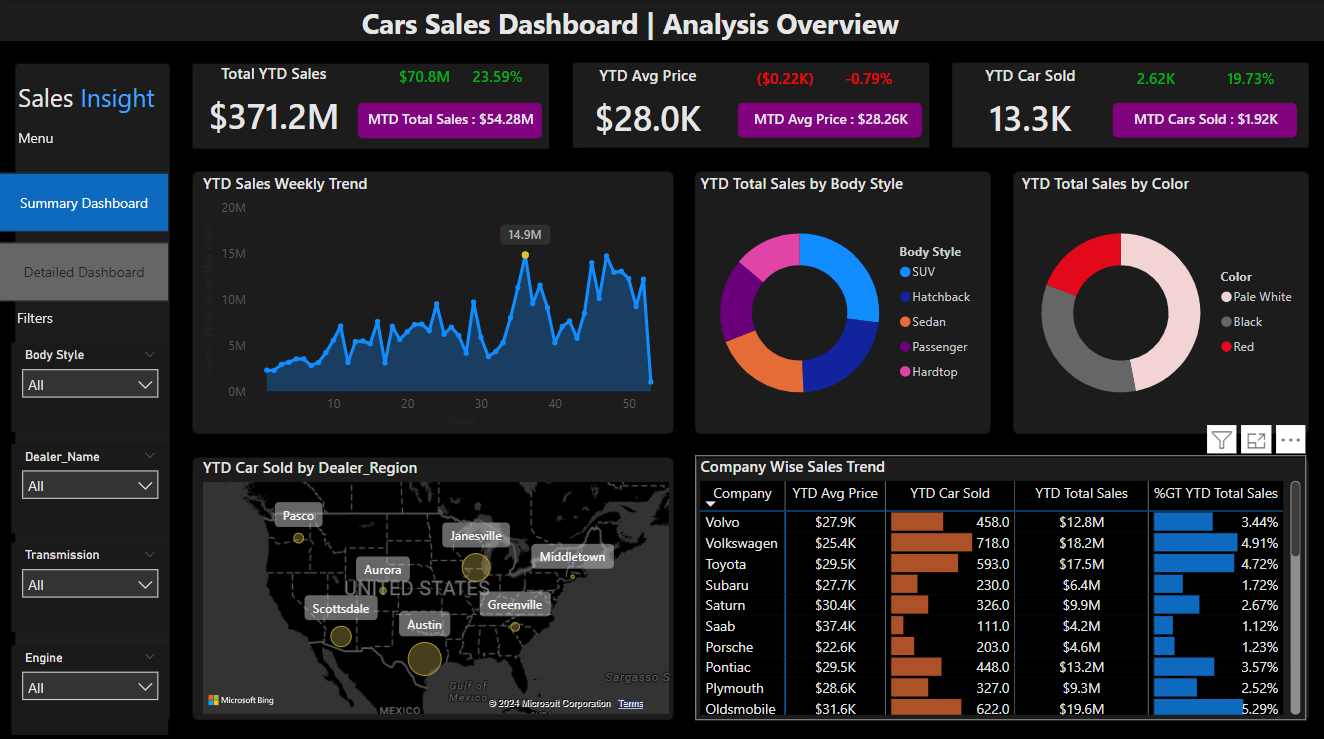

The dashboard page shown, as its layout file describes it:
{"tool":"powerbi","page":{"name":"Summary Dashboard","canvas":[1280,720],"ordinal":0},"visuals":[{"type":"card","title":"Total YTD Sales","fields":{"Values":["car_data.YTD Total Sales"]},"box":[186.1,62,158.7,83.7],"z":0},{"type":"card","fields":{"Values":["car_data.Sales Difference"]},"box":[357.8,62,105.3,31.7],"z":1000},{"type":"card","fields":{"Values":["car_data.YOY Sales Growth"]},"box":[437.2,62,89.5,31.7],"z":2000},{"type":"card","fields":{"Values":["car_data.MTD KPI"]},"box":[346.3,99.6,177.5,34.6],"z":3000},{"type":"card","title":"YTD Avg Price","fields":{"Values":["car_data.YTD Avg Price"]},"box":[546.5,62.8,159.2,84.2],"z":4000},{"type":"card","fields":{"Values":["car_data.Avg Price Difference"]},"box":[705.7,62.8,105.6,32.1],"z":5000},{"type":"card","fields":{"Values":["car_data.YOY Avg Price Growth"]},"box":[786.8,62.8,105.6,32.1],"z":6000},{"type":"card","fields":{"Values":["car_data.MTD Avg Price KPI"]},"box":[713.3,99.5,177.6,33.7],"z":7000},{"type":"card","title":"YTD Car Sold","fields":{"Values":["car_data.YTD Car Sold"]},"box":[915.4,62.8,159.2,84.2],"z":8000},{"type":"card","fields":{"Values":["car_data.Car Sold Difference"]},"box":[1063.9,62.8,105.6,32.1],"z":9000},{"type":"card","fields":{"Values":["car_data.YoY Car Sold Growth"]},"box":[1155.7,62.8,105.6,32.1],"z":10000},{"type":"card","fields":{"Values":["car_data.MTD Cars Sold KPI"]},"box":[1074.6,99.5,177.6,33.7],"z":11000},{"type":"areaChart","title":"YTD Sales Weekly Trend","fields":{"Category":["Date Table.Week"],"Y":["Sum(car_data.Price ($))","car_data.Max Point"]},"box":[191.8,167.6,459.5,250.9],"z":12000},{"type":"donutChart","fields":{"Category":["car_data.Body Style"],"Y":["car_data.YTD Total Sales"]},"box":[671.8,167.6,279.8,250.9],"z":13000},{"type":"donutChart","fields":{"Y":["car_data.YTD Total Sales"],"Category":["car_data.Color"]},"box":[981.7,167.6,279.8,250.9],"z":14000},{"type":"pivotTable","title":"Company Wise Sales Trend","fields":{"Rows":["car_data.Company"],"Values":["car_data.YTD Avg Price","car_data.YTD Car Sold","car_data.YTD Total Sales1","car_data.YTD Total Sales"]},"box":[672.3,440,588.6,255.4],"z":15000},{"type":"textbox","box":[345,0,560,52],"z":16000},{"type":"map","fields":{"Category":["car_data.Dealer_Region"],"Size":["car_data.YTD Car Sold"]},"box":[191.8,441.4,459.5,254.5],"z":17000},{"type":"slicer","fields":{"Values":["car_data.Body Style"]},"box":[11.5,331.8,151.5,86.6],"z":18000},{"type":"slicer","fields":{"Values":["car_data.Dealer_Name"]},"box":[11.5,429.9,151.5,86.6],"z":19000},{"type":"slicer","fields":{"Values":["car_data.Transmission"]},"box":[11.5,525.2,151.5,86.6],"z":20000},{"type":"slicer","fields":{"Values":["car_data.Engine"]},"box":[11.5,623.3,151.5,86.6],"z":21000},{"type":"textbox","box":[11.5,292.9,56.3,28.9],"z":22000},{"type":"textbox","box":[13,73.6,151.5,51.9],"z":23000},{"type":"pageNavigator","box":[0,167.4,164.5,125.5],"z":24000},{"type":"textbox","box":[13,119.7,56.3,28.9],"z":25000}]}

Visuals, with their boxes on the page's 1280x720 design canvas (x1, y1, x2, y2). These are canvas units, not pixel positions in the 1324x739 screenshot, which may show the page scaled, cropped or inside an application window:
"Total YTD Sales" card: (x1=186, y1=62, x2=345, y2=146)
card - car_data.Sales Difference: (x1=358, y1=62, x2=463, y2=94)
card - car_data.YOY Sales Growth: (x1=437, y1=62, x2=527, y2=94)
card - car_data.MTD KPI: (x1=346, y1=100, x2=524, y2=134)
"YTD Avg Price" card: (x1=546, y1=63, x2=706, y2=147)
card - car_data.Avg Price Difference: (x1=706, y1=63, x2=811, y2=95)
card - car_data.YOY Avg Price Growth: (x1=787, y1=63, x2=892, y2=95)
card - car_data.MTD Avg Price KPI: (x1=713, y1=100, x2=891, y2=133)
"YTD Car Sold" card: (x1=915, y1=63, x2=1075, y2=147)
card - car_data.Car Sold Difference: (x1=1064, y1=63, x2=1170, y2=95)
card - car_data.YoY Car Sold Growth: (x1=1156, y1=63, x2=1261, y2=95)
card - car_data.MTD Cars Sold KPI: (x1=1075, y1=100, x2=1252, y2=133)
"YTD Sales Weekly Trend" areaChart: (x1=192, y1=168, x2=651, y2=418)
donutChart - car_data.Body Style x car_data.YTD Total Sales: (x1=672, y1=168, x2=952, y2=418)
donutChart - car_data.YTD Total Sales x car_data.Color: (x1=982, y1=168, x2=1262, y2=418)
"Company Wise Sales Trend" pivotTable: (x1=672, y1=440, x2=1261, y2=695)
textbox: (x1=345, y1=0, x2=905, y2=52)
map - car_data.Dealer_Region x car_data.YTD Car Sold: (x1=192, y1=441, x2=651, y2=696)
slicer - car_data.Body Style: (x1=12, y1=332, x2=163, y2=418)
slicer - car_data.Dealer_Name: (x1=12, y1=430, x2=163, y2=516)
slicer - car_data.Transmission: (x1=12, y1=525, x2=163, y2=612)
slicer - car_data.Engine: (x1=12, y1=623, x2=163, y2=710)
textbox: (x1=12, y1=293, x2=68, y2=322)
textbox: (x1=13, y1=74, x2=164, y2=126)
pageNavigator: (x1=0, y1=167, x2=164, y2=293)
textbox: (x1=13, y1=120, x2=69, y2=149)
